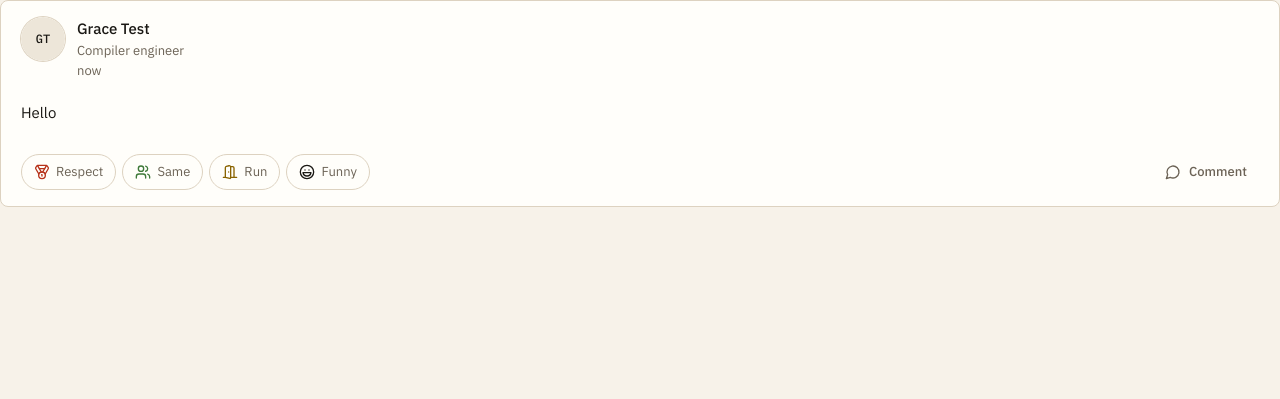
Test: PostCard › loads comments when opened
This screenshot has width=1280, height=399.
Step 1. Click the button "Comment" → (1206, 172), box 1153,154 -> 1259,190
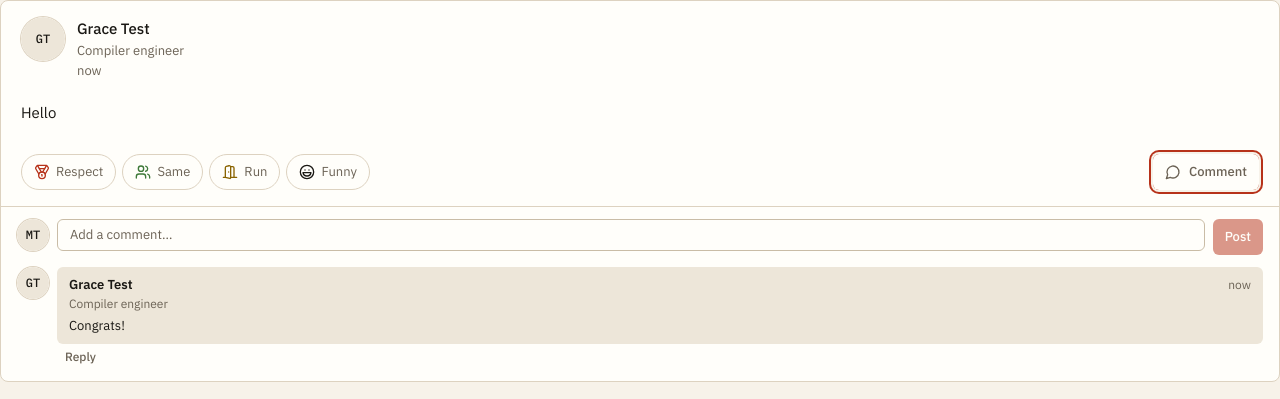
Expected: the text "Congrats!" is shown, 69,317 -> 125,334
